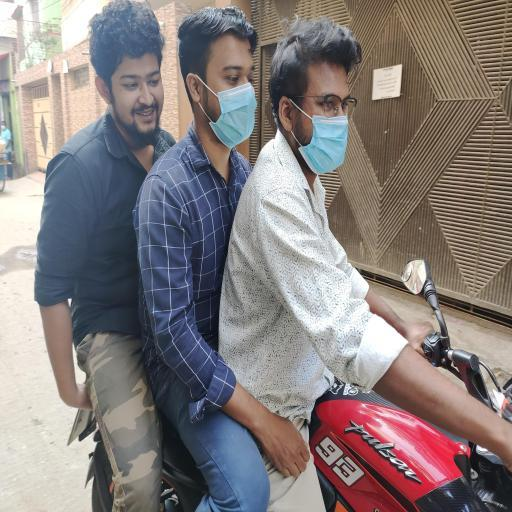no helmet: (269, 13, 402, 164)
triple riding: (38, 8, 512, 512)
